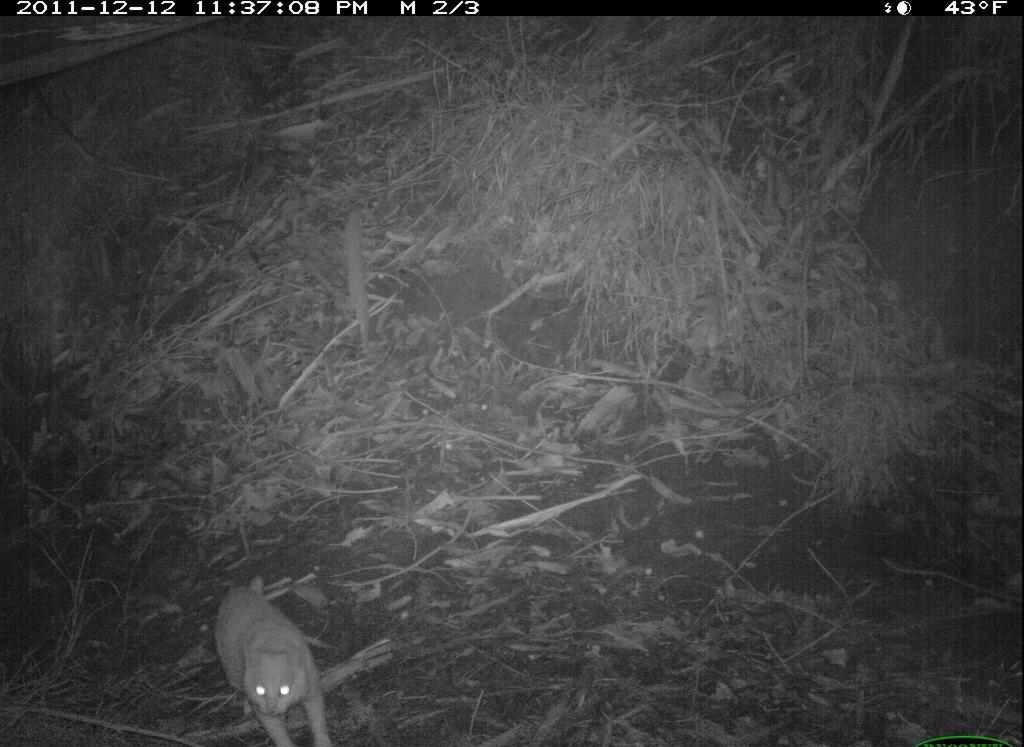cat: (208, 575, 345, 747)
